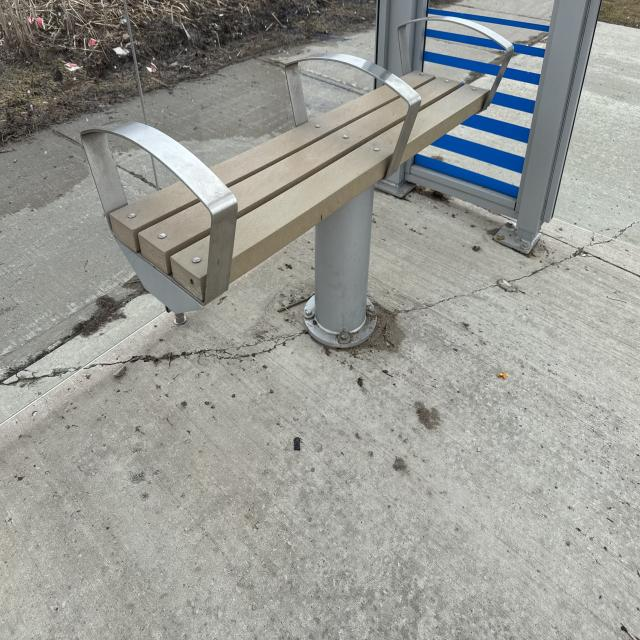Bench: (76, 12, 527, 362)
